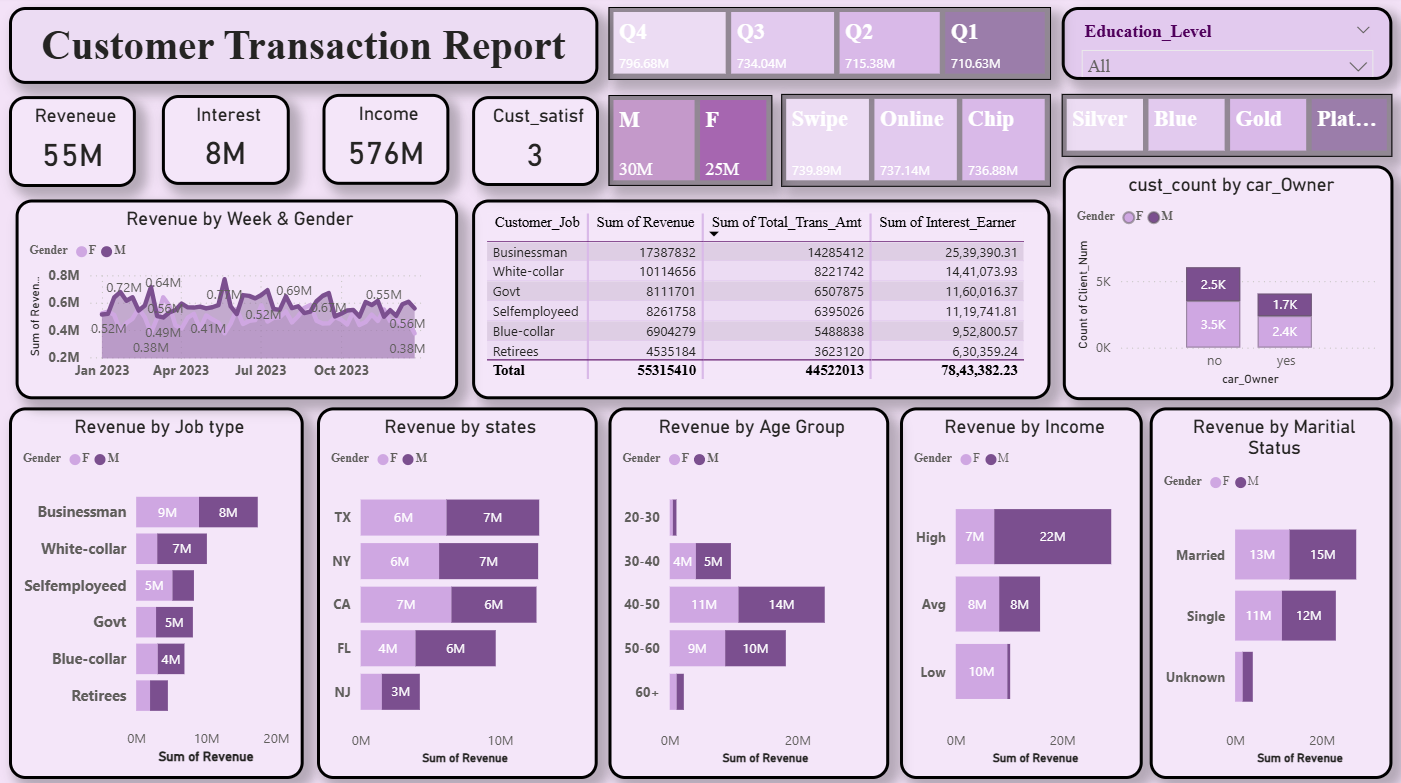

The dashboard page shown, as its layout file describes it:
{"tool":"powerbi","page":{"name":"Customer Report","canvas":[1280,720],"ordinal":1},"visuals":[{"type":"textbox","box":[9.6,9.6,536.4,70],"z":0},{"type":"barChart","title":"Revenue by Job type","fields":{"Y":["Sum(cc_details.Revenue)"],"Series":["cust_details.Gender"],"Category":["cust_details.Customer_Job"]},"box":[10,374.4,268.3,338.4],"z":1000},{"type":"tableEx","fields":{"Values":["cust_details.Customer_Job","Sum(cc_details.Revenue)","Sum(cc_details.Total_Trans_Amt)","Sum(cc_details.Interest_Earner)"]},"box":[431.5,185.2,526.6,182.2],"z":2000},{"type":"card","title":"Cust_satisf","fields":{"Values":["Avg(cust_details.Customer_Satisfaction_Score)"]},"box":[431.5,91.1,115.1,82.1],"z":3000},{"type":"card","title":"Reveneue","fields":{"Values":["Sum(cc_details.Revenue)"]},"box":[9.6,90.8,115.5,82.5],"z":4000},{"type":"card","title":"Interest","fields":{"Values":["Sum(cc_details.Interest_Earner)"]},"box":[149.2,90.1,116.1,82.1],"z":5000},{"type":"card","title":"Income","fields":{"Values":["Sum(cust_details.Income)"]},"box":[295.3,89.1,115.1,83.1],"z":6000},{"type":"slicer","fields":{"Values":["cust_details.Education_Level"]},"box":[968.1,10,301.3,66.1],"z":7000},{"type":"treemap","fields":{"Group":["cc_details.Qtr"],"Values":["Avg(cc_details.Client_Num)"]},"box":[555.6,10,402.4,66.1],"z":8000},{"type":"treemap","fields":{"Group":["cust_details.Gender"],"Values":["Sum(cc_details.Revenue)"]},"box":[555.6,90.1,149.2,83.1],"z":9000},{"type":"treemap","fields":{"Values":["Avg(cc_details.Client_Num)"],"Group":["cc_details.Card_Category"]},"box":[968.1,89.1,301.3,57.1],"z":10000},{"type":"treemap","fields":{"Group":["cc_details.Use_Chip"],"Values":["Avg(cc_details.Client_Num)"]},"box":[712.8,89.1,245.3,84.1],"z":11000},{"type":"lineChart","title":"Revenue by Week & Gender","fields":{"Y":["Sum(cc_details.Revenue)"],"Series":["cust_details.Gender"],"Category":["cc_details.Week_Start_Date.Variation.Date Hierarchy.Year","cc_details.Week_Start_Date.Variation.Date Hierarchy.Month","cc_details.Week_Start_Date.Variation.Date Hierarchy.Day"]},"box":[16,185.2,402.4,182.2],"z":12000},{"type":"columnChart","title":"cust_count by car_Owner","fields":{"Category":["cust_details.car_Owner"],"Y":["CountNonNull(cc_details.Client_Num)"],"Series":["cust_details.Gender"]},"box":[969.1,154.2,301.3,213.2],"z":13000},{"type":"barChart","title":"Revenue by states","fields":{"Y":["Sum(cc_details.Revenue)"],"Category":["cust_details.State_cd"],"Series":["cust_details.Gender"]},"box":[290.3,374.4,255.3,338.4],"z":14000},{"type":"barChart","title":"Revenue by Income ","fields":{"Y":["Sum(cc_details.Revenue)"],"Category":["cust_details.IncomeGroup"],"Series":["cust_details.Gender"]},"box":[820.9,374.4,221.2,338.4],"z":15000},{"type":"barChart","title":"Revenue by Age Group","fields":{"Y":["Sum(cc_details.Revenue)"],"Category":["cust_details.AgeGroup"],"Series":["cust_details.Gender"]},"box":[555.6,374.4,255.3,338.4],"z":16000},{"type":"barChart","title":"Revenue by Maritial Status","fields":{"Category":["cust_details.Maritial_Status"],"Y":["Sum(cc_details.Revenue)"],"Series":["cust_details.Gender"]},"box":[1047.8,382.2,221.1,337.8],"z":17000}]}

Visuals, with their boxes in screenshot pixels (x1, y1, x2, y2), scaled from the page's 1280x720 canvas onto the 1401x783 screenshot:
textbox: bbox(11, 10, 598, 87)
"Revenue by Job type" barChart: bbox(11, 407, 305, 775)
tableEx - cust_details.Customer_Job x Sum(cc_details.Revenue): bbox(472, 201, 1049, 400)
"Cust_satisf" card: bbox(472, 99, 598, 188)
"Reveneue" card: bbox(11, 99, 137, 188)
"Interest" card: bbox(163, 98, 290, 187)
"Income" card: bbox(323, 97, 449, 187)
slicer - cust_details.Education_Level: bbox(1060, 11, 1389, 83)
treemap - cc_details.Qtr x Avg(cc_details.Client_Num): bbox(608, 11, 1049, 83)
treemap - cust_details.Gender x Sum(cc_details.Revenue): bbox(608, 98, 771, 188)
treemap - Avg(cc_details.Client_Num) x cc_details.Card_Category: bbox(1060, 97, 1389, 159)
treemap - cc_details.Use_Chip x Avg(cc_details.Client_Num): bbox(780, 97, 1049, 188)
"Revenue by Week & Gender" lineChart: bbox(18, 201, 458, 400)
"cust_count by car_Owner" columnChart: bbox(1061, 168, 1390, 400)
"Revenue by states" barChart: bbox(318, 407, 597, 775)
"Revenue by Income " barChart: bbox(899, 407, 1141, 775)
"Revenue by Age Group" barChart: bbox(608, 407, 888, 775)
"Revenue by Maritial Status" barChart: bbox(1147, 416, 1389, 782)
